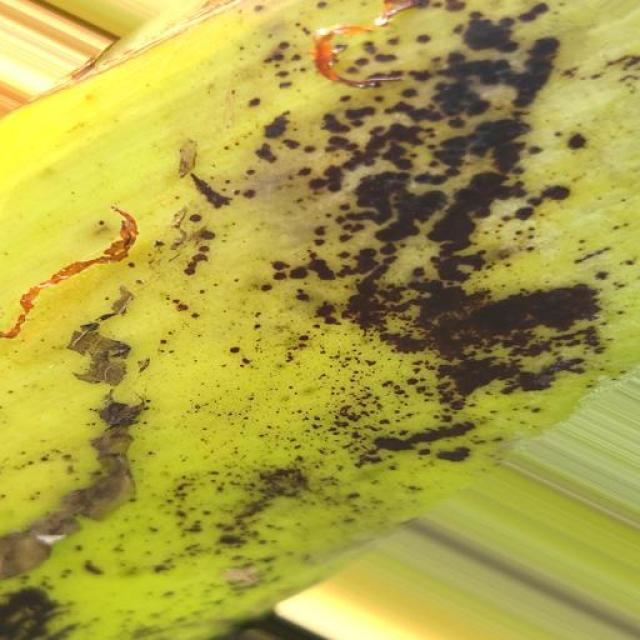Anthracnose: (2, 1, 640, 596)
